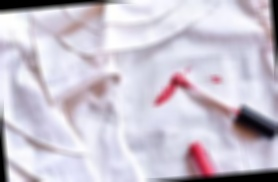lipstick: (151, 89, 182, 106), (161, 72, 183, 95), (207, 73, 225, 86), (183, 66, 193, 74)
